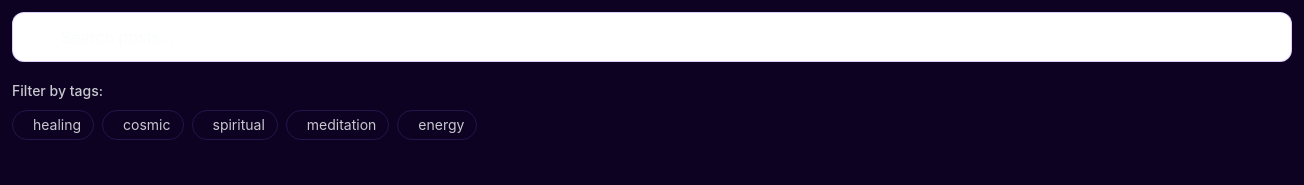
SearchFilter › Search Suggestions › shows suggestions when typing
The width and height of the screenshot is (1304, 185).
In the field with placeholder "Search posts...": (652, 37) [12, 12, 1292, 62], type "heal"
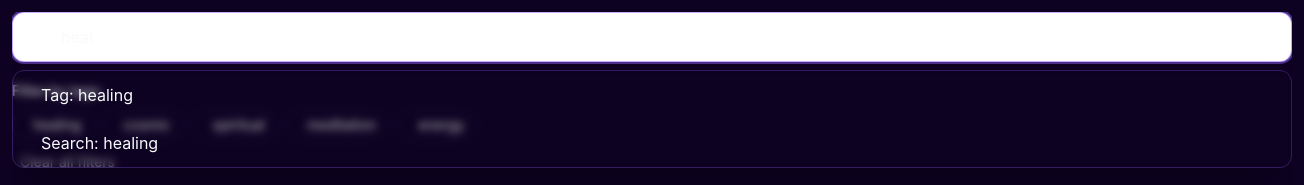
Result: the text "Tag: healing" is shown at [41, 83, 133, 107]
